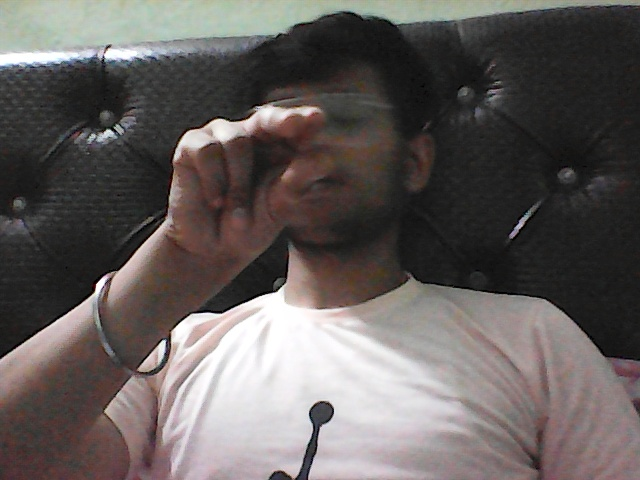no: (132, 102, 358, 264)
